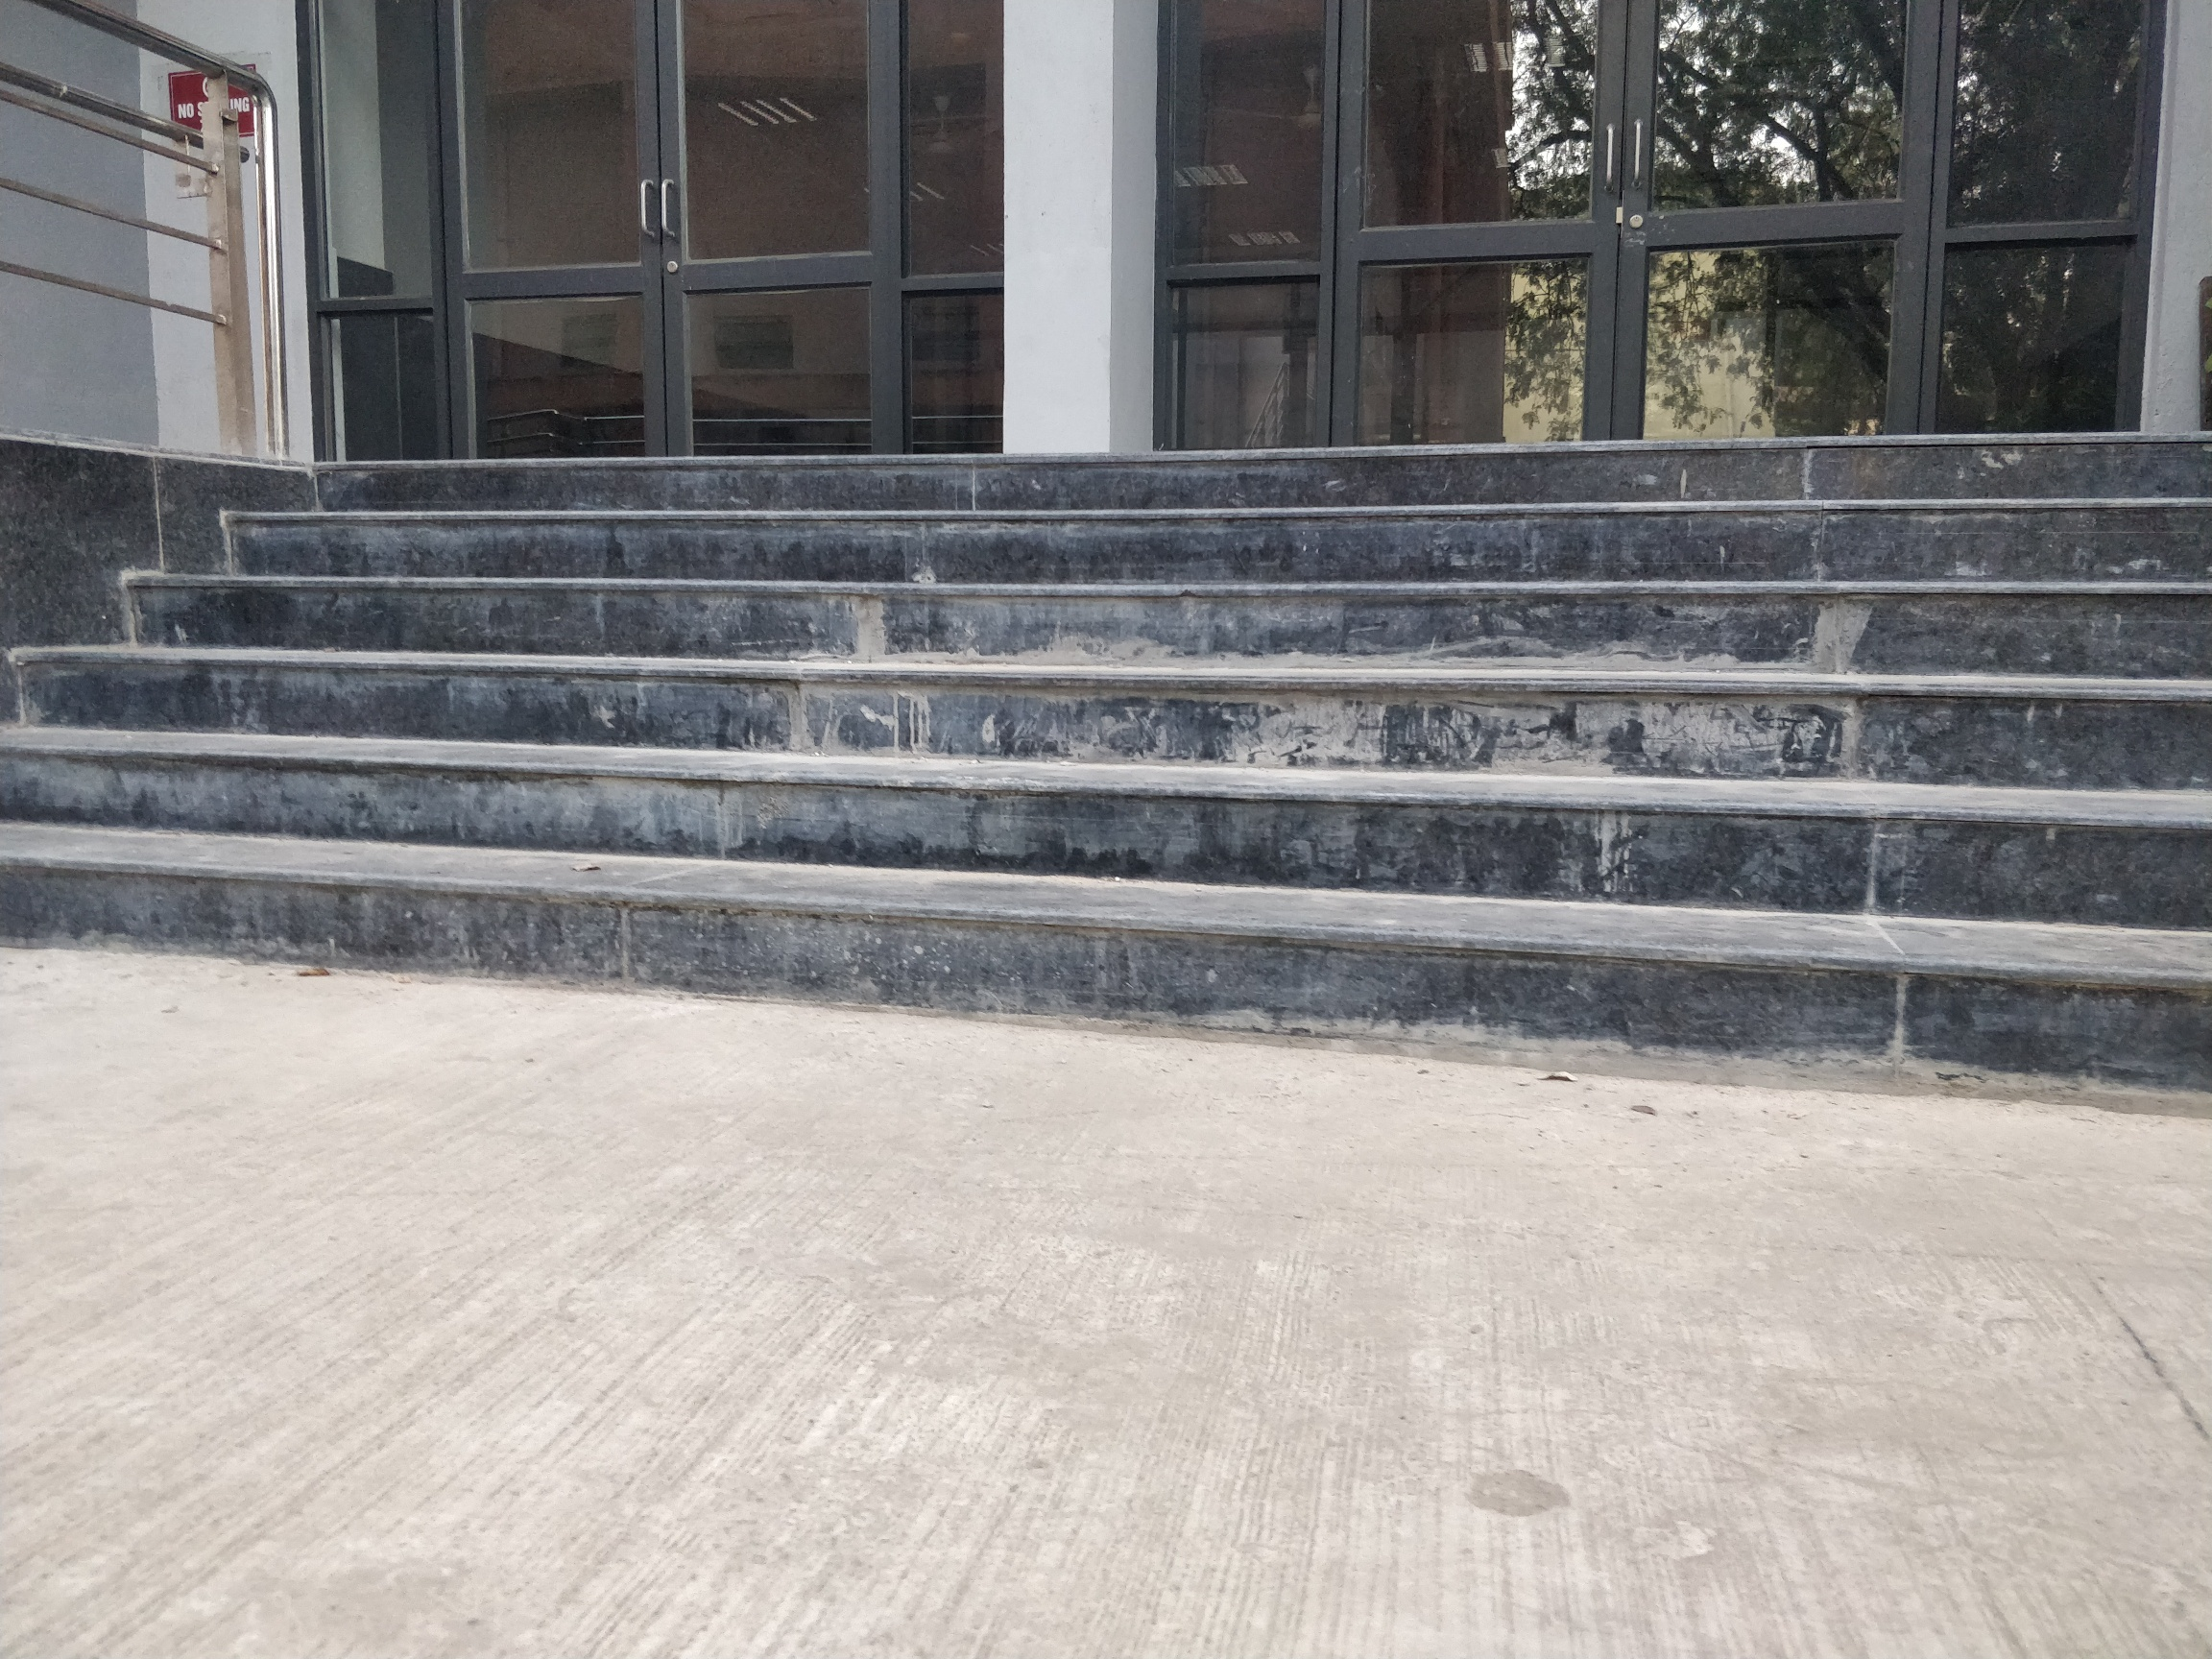stairs_up: (143, 448, 2212, 1082)
